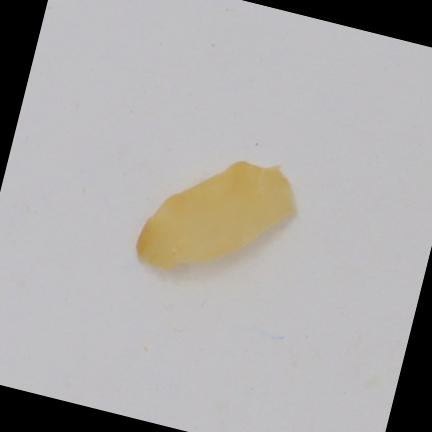parchment: (137, 162, 292, 268)
